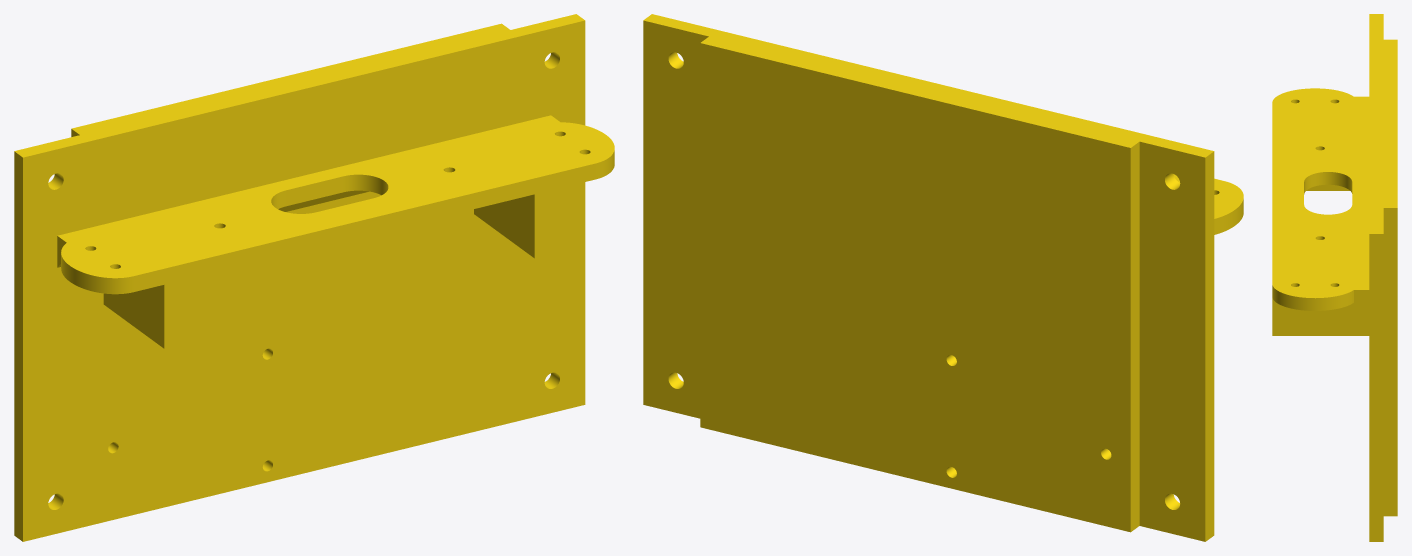
The picture shows the model from 3 angles, left to right: view 1: azimuth 30°, elevation 25°; view 2: azimuth 150°, elevation 25°; view 3: azimuth 270°, elevation 25°; orthographic projection. The views are drawn at different scales.
Visible parts, largest first — view 1: mesh12105, mesh12126, mesh12117, mesh12095, mesh12096, mesh12108, mesh12113, mesh12111, mesh12129, mesh12128; view 2: mesh12101, mesh12098, mesh12090, mesh12095, mesh12096, mesh12097, mesh12126; view 3: mesh12126, mesh12095, mesh12093, mesh12091, mesh12115, mesh12119, mesh12130, mesh12118, mesh12112.
Boxes of the visible parts, x1,y1,x2,y2 form: mesh12105: (23, 20, 585, 541); mesh12126: (57, 115, 614, 278); mesh12117: (133, 163, 595, 348); mesh12095: (14, 14, 584, 157); mesh12096: (14, 151, 22, 541); mesh12108: (103, 285, 164, 348); mesh12113: (474, 194, 534, 258); mesh12111: (61, 252, 133, 294); mesh12129: (286, 176, 343, 206); mesh12128: (343, 174, 388, 195); mesh12101: (700, 43, 1130, 532); mesh12098: (1139, 141, 1205, 541); mesh12090: (643, 20, 708, 418); mesh12095: (643, 14, 1213, 157); mesh12096: (1205, 151, 1214, 541); mesh12097: (1130, 142, 1139, 531); mesh12126: (1173, 174, 1243, 218); mesh12126: (1272, 88, 1369, 298); mesh12095: (1369, 14, 1397, 233); mesh12093: (1383, 208, 1397, 516); mesh12091: (1369, 234, 1383, 541); mesh12115: (1272, 298, 1369, 335); mesh12119: (1272, 285, 1353, 310); mesh12130: (1304, 172, 1352, 194); mesh12118: (1354, 290, 1369, 314); mesh12112: (1306, 184, 1349, 190).
Bounding box in the file's own units: 0.1837 × 0.12 × 0.0443.
